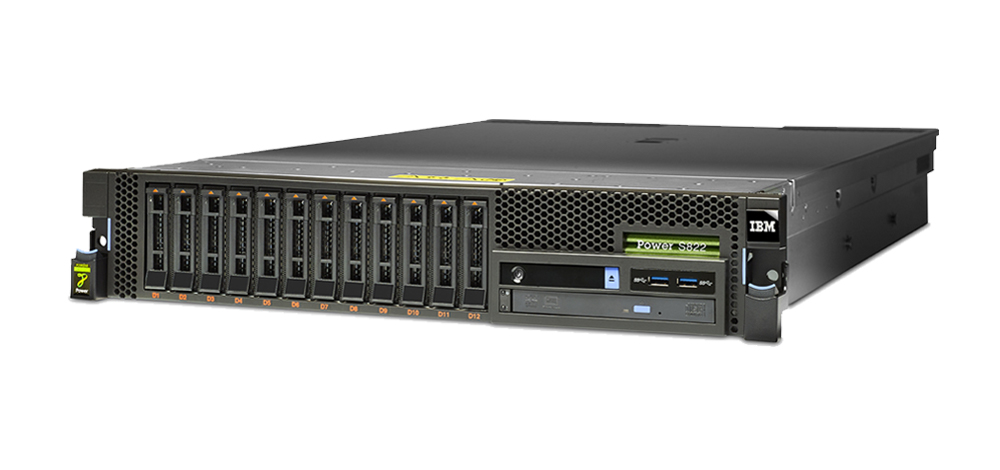ibm-server: (30, 102, 951, 356)
